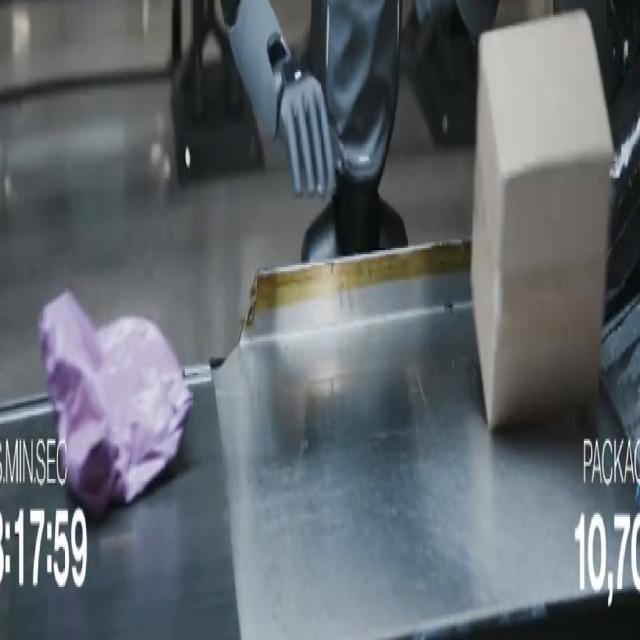package: (472, 11, 613, 428), (40, 293, 192, 519), (497, 0, 553, 27)
